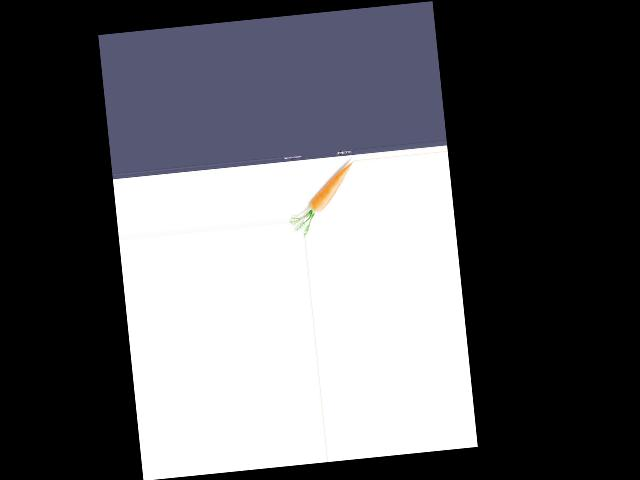carrot: (298, 159, 359, 227)
